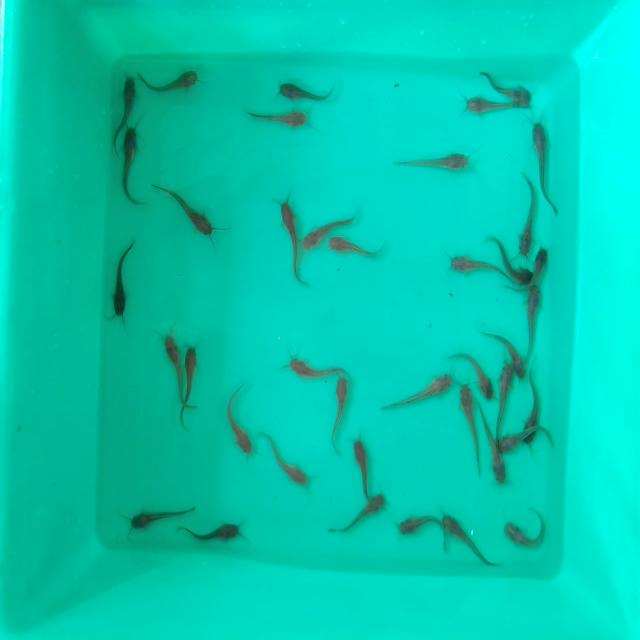lele: (380, 366, 456, 412), (265, 428, 317, 492), (155, 184, 217, 236), (445, 506, 501, 562), (218, 374, 255, 456), (397, 143, 472, 179), (457, 382, 485, 467), (327, 494, 388, 532), (118, 129, 145, 213), (507, 504, 554, 551), (110, 239, 138, 315), (242, 105, 312, 135), (491, 66, 536, 112), (127, 504, 198, 533), (276, 199, 301, 278), (274, 75, 336, 105), (280, 359, 357, 382), (181, 340, 199, 438), (517, 173, 541, 245), (156, 332, 182, 397), (531, 124, 555, 194), (184, 516, 248, 542), (330, 376, 350, 458), (302, 212, 350, 246), (329, 236, 386, 264), (524, 248, 560, 290), (455, 94, 503, 125), (397, 511, 446, 541), (352, 438, 378, 494), (494, 236, 520, 290), (143, 68, 201, 92), (468, 340, 493, 394), (495, 357, 515, 422), (529, 361, 545, 441), (446, 255, 497, 279), (503, 333, 529, 379), (526, 287, 548, 335), (496, 423, 530, 454), (483, 448, 508, 488), (118, 74, 136, 125)
